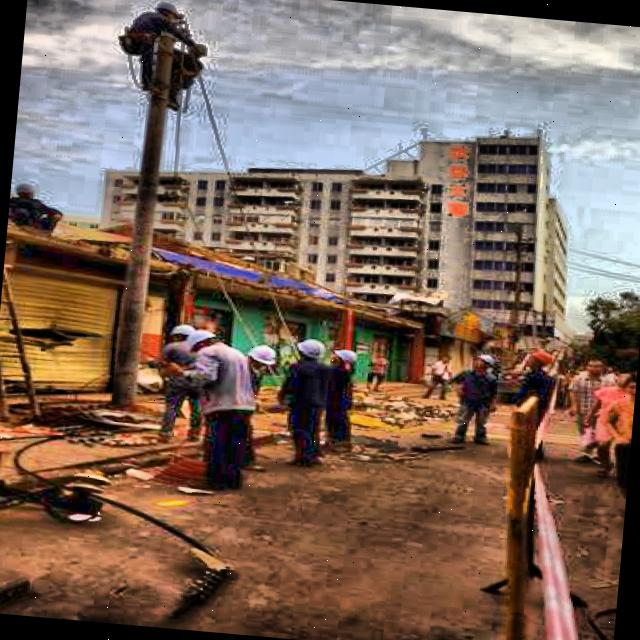helmet: (243, 337, 280, 372), (523, 344, 558, 376), (289, 336, 326, 366), (187, 327, 225, 352), (326, 346, 360, 369), (172, 318, 197, 348), (150, 0, 179, 21), (472, 349, 498, 369)
